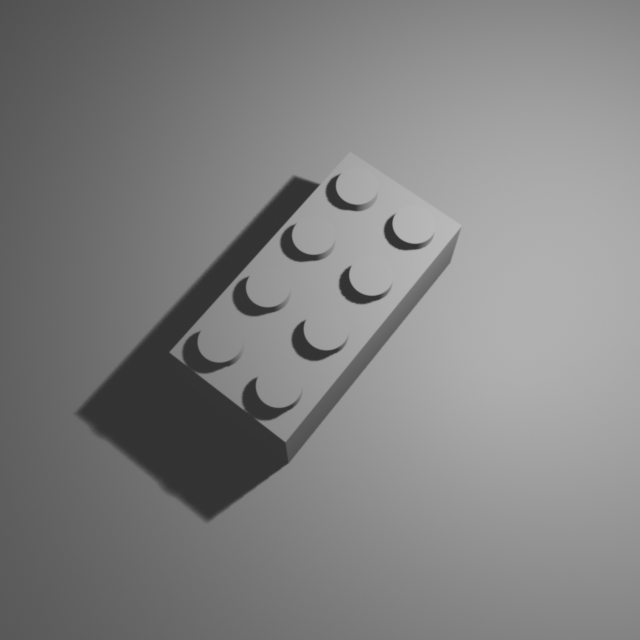lego_2x4: (167, 144, 464, 464)
